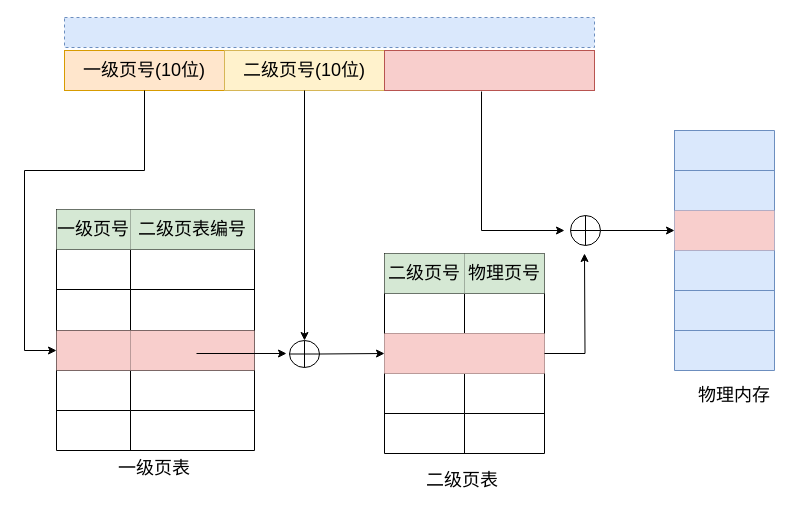
Image size: 792x518. Some labels were removed from this diagram. Here are the shapes that lost their labels. From the top down, the centre of each, then its label:
At point (329, 32): "虚拟地址A".
At point (489, 70): "页内偏移量(12位)".
